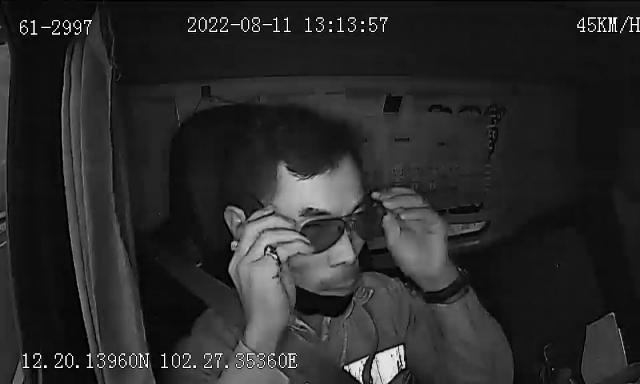SafeDriving: (418, 95, 461, 122)
Seatbelt: (189, 262, 367, 384)
